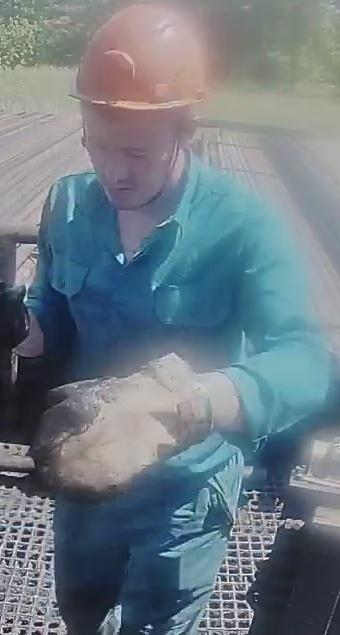gloves: (35, 353, 218, 502), (1, 276, 34, 357)
helmet: (63, 0, 213, 115)
vest: (41, 174, 258, 525)
